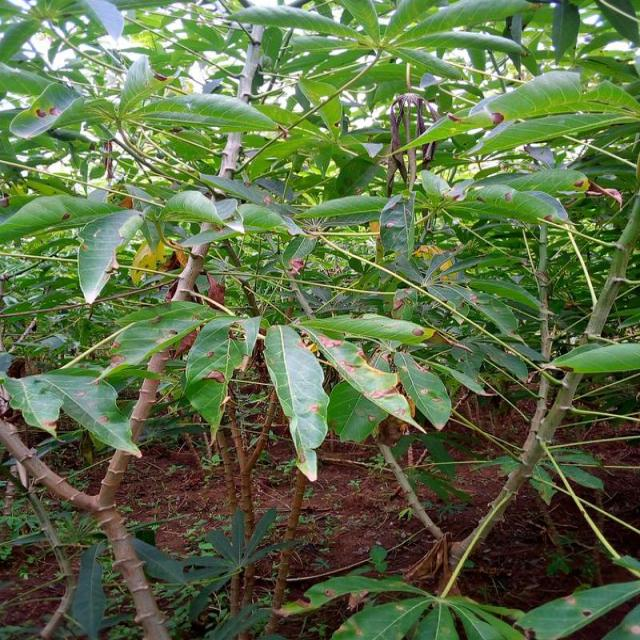cassava leaf: (3, 366, 142, 459), (262, 323, 330, 482)
